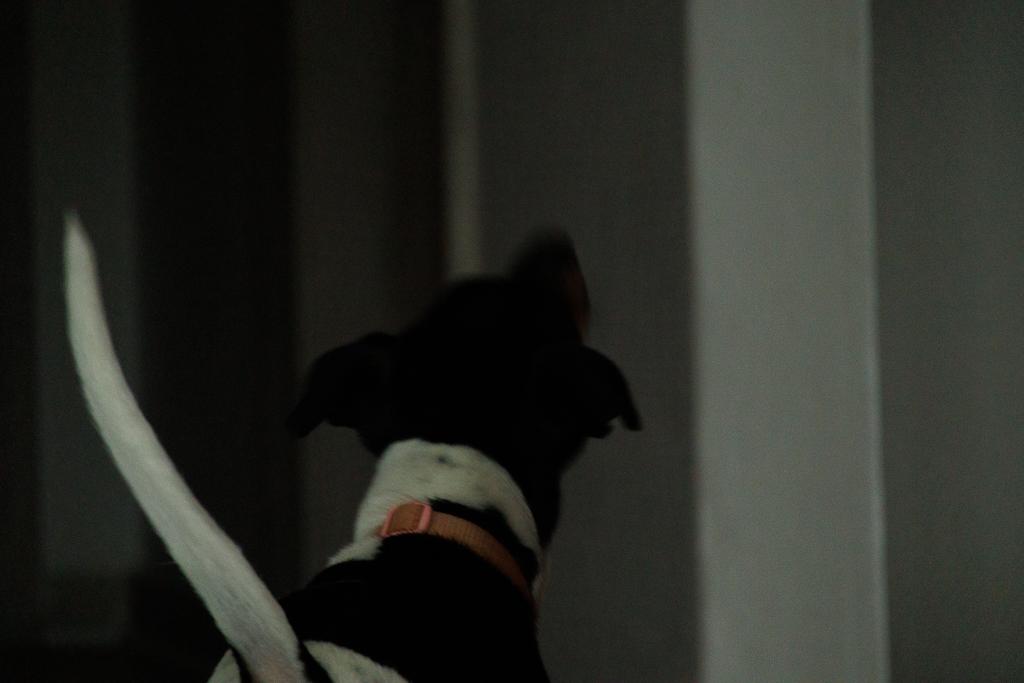Dog: (41, 189, 657, 683)
